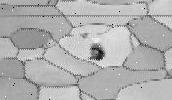good_void: (88, 43, 106, 61)
